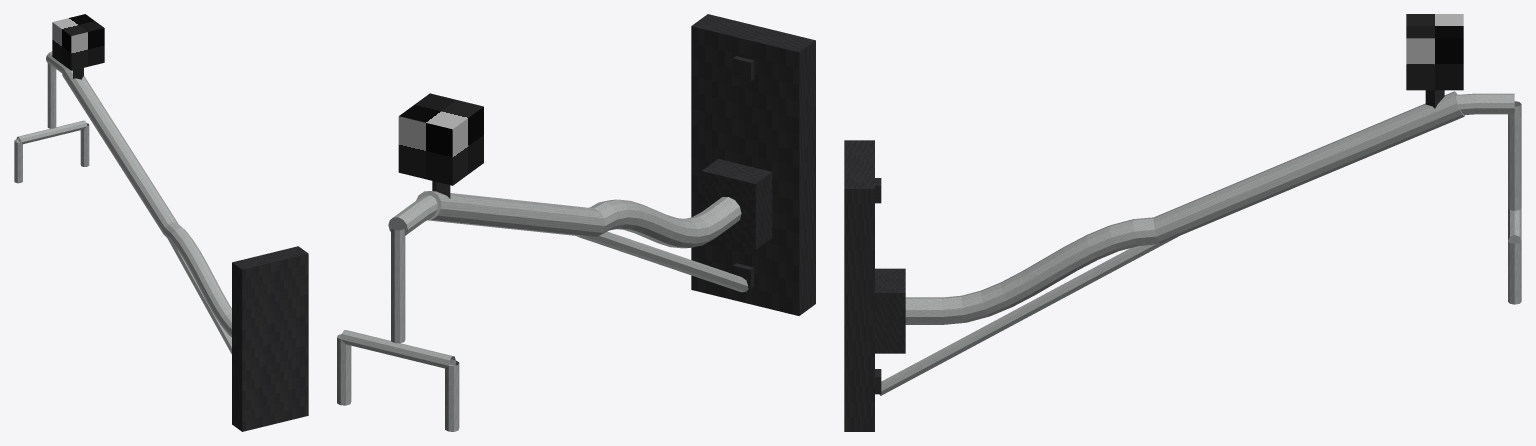
The model's file is arm_2_straight_flood_down.obj.
3 renders of one model, left to right at view 1: azimuth 30°, elevation 25°; view 2: azimuth 150°, elevation 25°; view 3: azimuth 270°, elevation 25°, orthographic. The views are drawn at different scales.
Visible parts, largest first — view 1: pole_light_mount_2_straight_flood_down; view 2: pole_light_mount_2_straight_flood_down; view 3: pole_light_mount_2_straight_flood_down.
Part boxes in pixels (x1,y1,x2,y2): pole_light_mount_2_straight_flood_down: (14, 14, 308, 431); pole_light_mount_2_straight_flood_down: (337, 14, 815, 431); pole_light_mount_2_straight_flood_down: (844, 14, 1521, 431).
Bounding box in the file's own units: 0.419 × 1.37 × 2.21.
